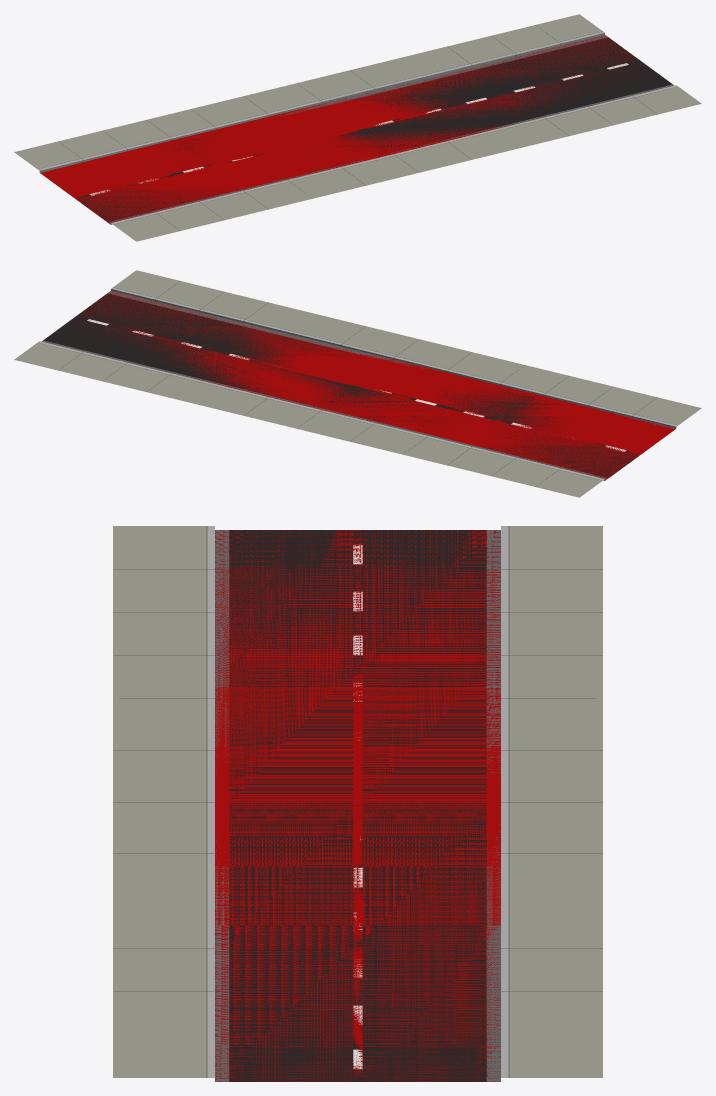
File: Road-64m.fbx
3 views of the same model, one above another, from view 1: azimuth 30°, elevation 25°; view 2: azimuth 150°, elevation 25°; view 3: azimuth 270°, elevation 25° (orthographic). The views are drawn at different scales.
Parts seen in each view (by area): view 1: Sides, Coolider-Road, Road; view 2: Coolider-Road, Sides, Road; view 3: Road, Coolider-Road, Sides.
Boxes of the visible parts, box(x1,y1,x2,y2) form: Sides: box(14, 14, 701, 241); Coolider-Road: box(40, 35, 657, 224); Road: box(40, 35, 673, 224); Coolider-Road: box(64, 291, 675, 479); Sides: box(14, 270, 701, 497); Road: box(42, 291, 675, 480); Road: box(215, 530, 500, 1081); Coolider-Road: box(215, 530, 500, 1081); Sides: box(113, 526, 602, 1077).
Size of what is drawn, in the model's own units: 64 by 0.2 by 24.
